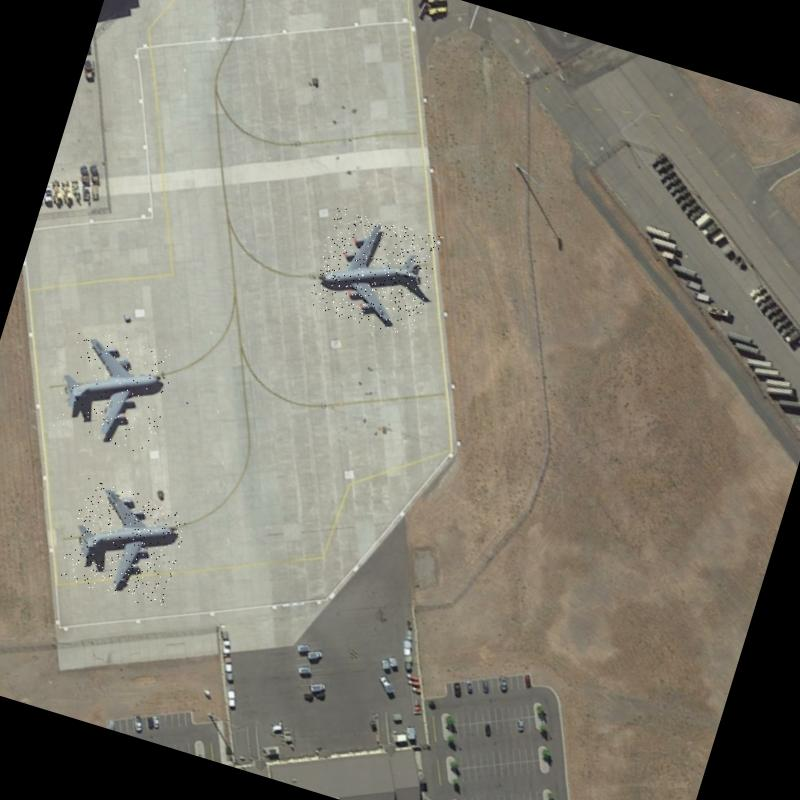A14: (306, 205, 444, 339), (58, 478, 192, 610), (49, 323, 180, 456)
